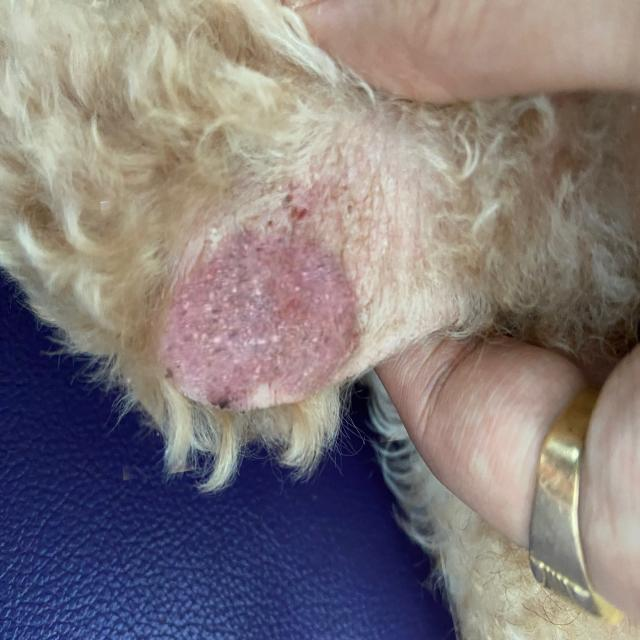ringworm: (170, 211, 373, 397)
